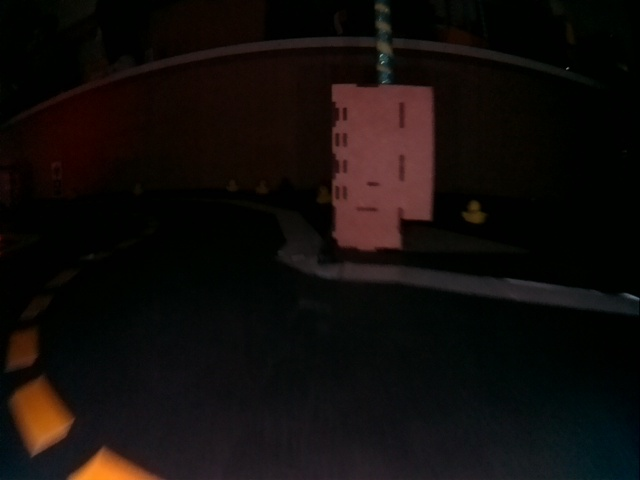Duckie: (465, 200, 487, 224), (315, 186, 327, 204), (254, 180, 269, 194), (226, 180, 239, 187)
